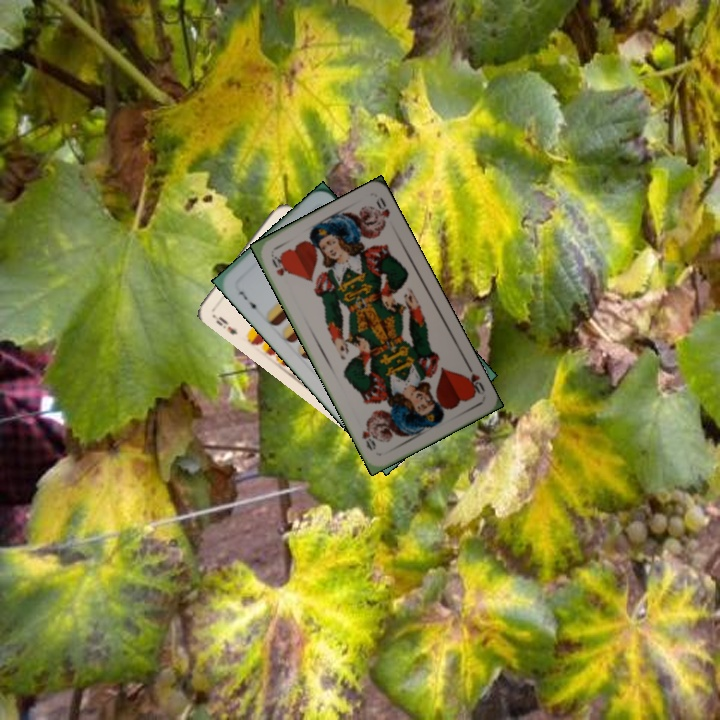E7: (235, 287, 262, 315)
E9: (212, 312, 240, 338)
HO: (459, 360, 488, 399), (267, 250, 291, 279)
